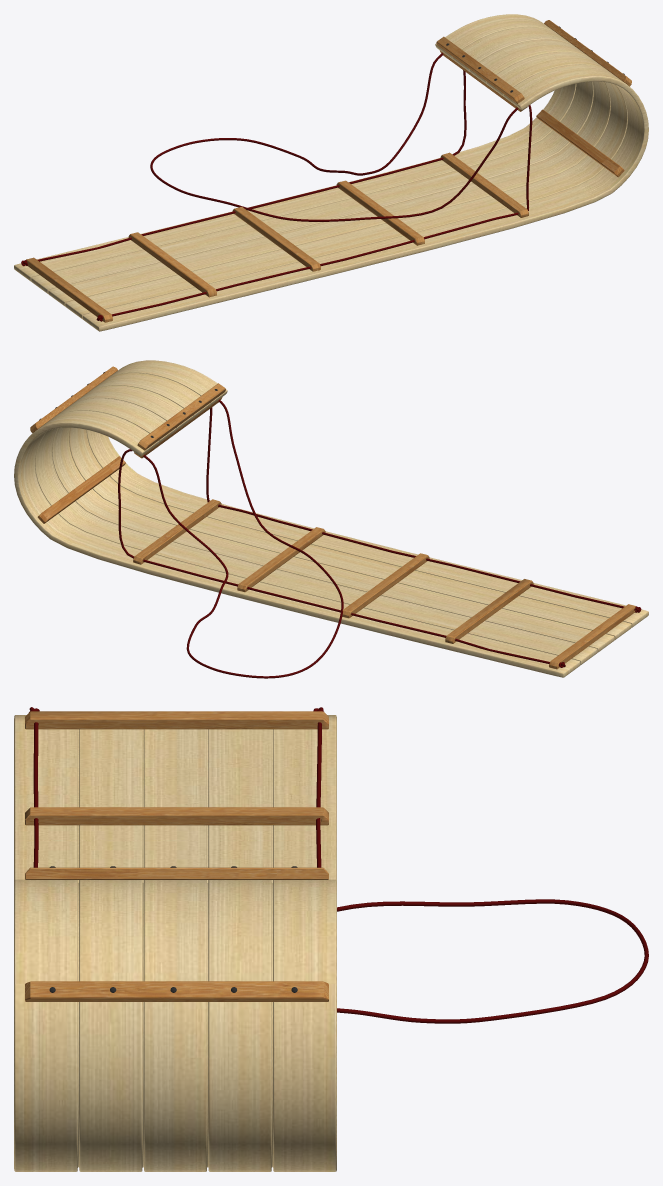
File: SLED.fbx
The picture shows the model from 3 angles, top to bottom: view 1: azimuth 30°, elevation 25°; view 2: azimuth 150°, elevation 25°; view 3: azimuth 270°, elevation 25°; orthographic projection. The views are drawn at different scales.
Parts seen in each view (by area): view 1: Line001, braces, Line002; view 2: Line001, braces, Line002; view 3: Line001, braces, Line002.
Boxes of the visible parts, x1=… form: Line001: x1=14, y1=14, x2=648, y2=331; braces: x1=26, y1=20, x2=631, y2=322; Line002: x1=21, y1=53, x2=532, y2=321; Line001: x1=14, y1=360, x2=648, y2=677; braces: x1=30, y1=366, x2=635, y2=669; Line002: x1=118, y1=399, x2=641, y2=678; Line001: x1=14, y1=715, x2=336, y2=1171; braces: x1=25, y1=711, x2=328, y2=1001; Line002: x1=29, y1=707, x2=648, y2=1023.
Size of the model in its own units: 316 by 75.21 by 167.
Materials: 4 (2 with a texture image).
